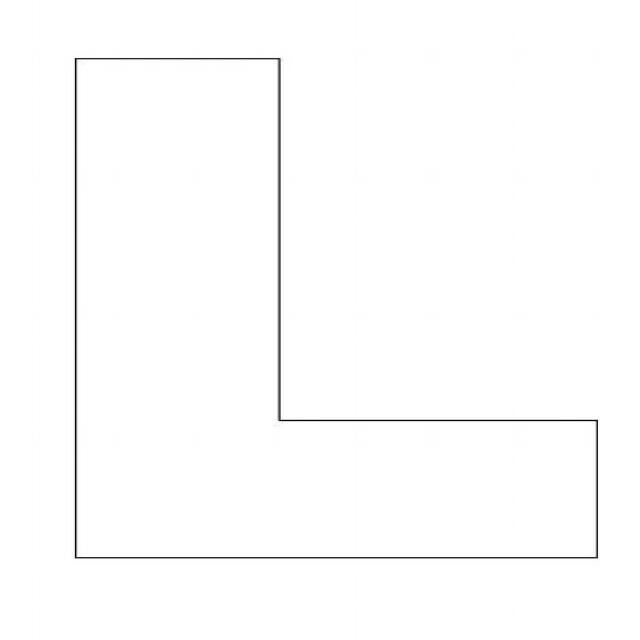L: (46, 34, 615, 597)
